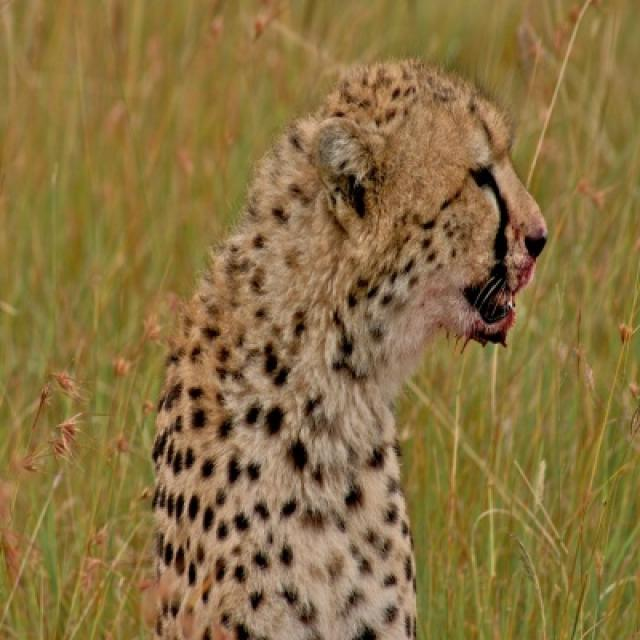Cheetah: (152, 61, 546, 638)
